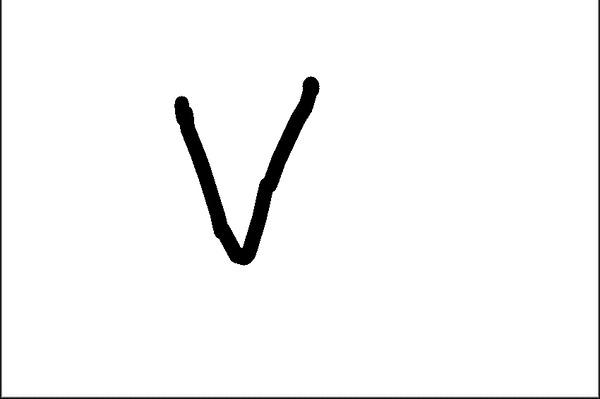V: (166, 69, 328, 275)
